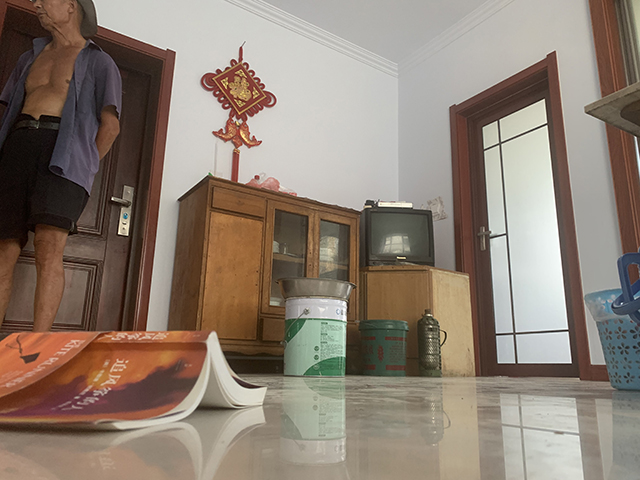book: (1, 330, 269, 434)
cabinet: (167, 173, 364, 374), (359, 263, 478, 379)
trashcan: (582, 287, 640, 393)
